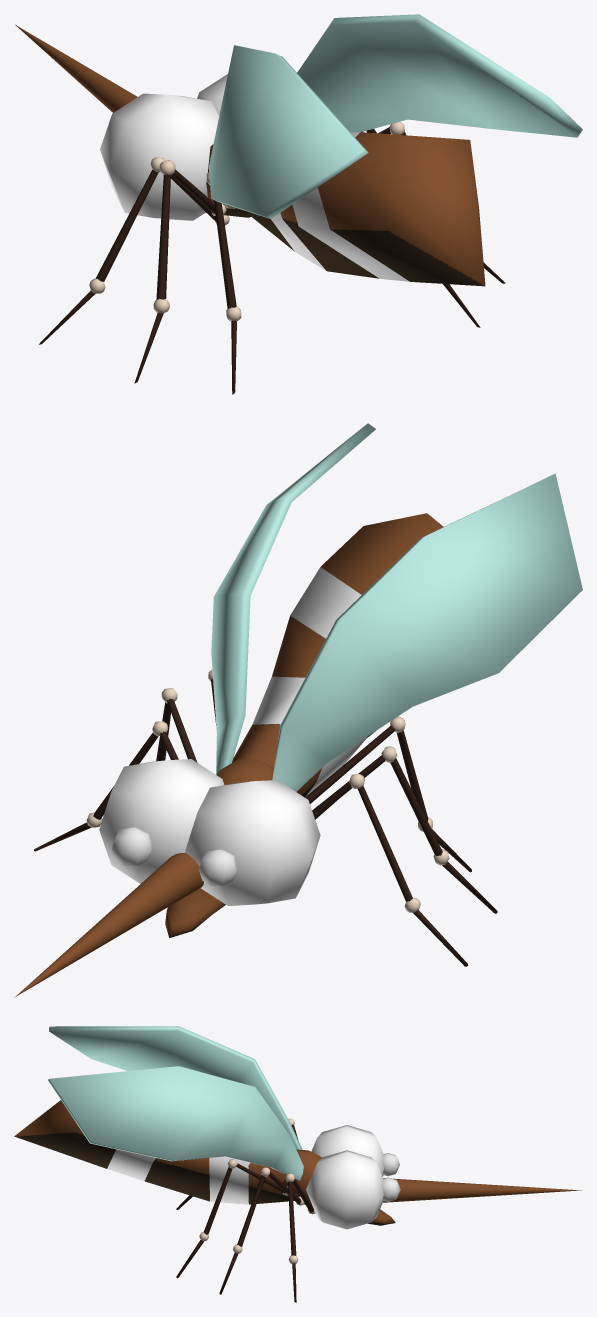
File: MosquitoTextured.fbx
The picture shows the model from 3 angles, top to bottom: view 1: azimuth 30°, elevation 25°; view 2: azimuth 150°, elevation 25°; view 3: azimuth 270°, elevation 25°; orthographic projection. The views are drawn at different scales.
Visible parts, largest first — view 1: Mosquito, Wings; view 2: Wings, Mosquito, Right eye, Left eye; view 3: Wings, Mosquito, Right eye.
Part boxes in pixels (x1,y1,x2,y2): Mosquito: (15, 25, 505, 394); Wings: (208, 14, 582, 218); Wings: (211, 423, 582, 791); Mosquito: (14, 513, 497, 997); Right eye: (112, 827, 152, 866); Left eye: (199, 849, 237, 886); Wings: (48, 1026, 303, 1180); Mosquito: (14, 1100, 581, 1302); Right eye: (382, 1177, 400, 1201).
Size of the model in its own units: 873 by 636 by 1646.
